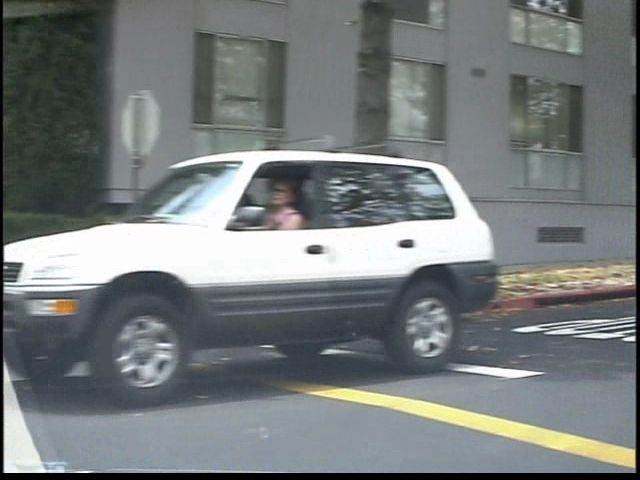car: (1, 139, 499, 388)
